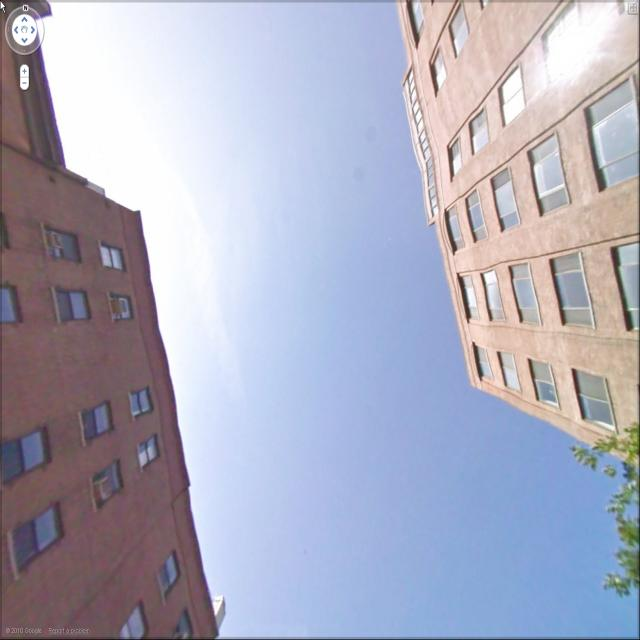b_1: (1, 17, 230, 631), (394, 10, 638, 451)
